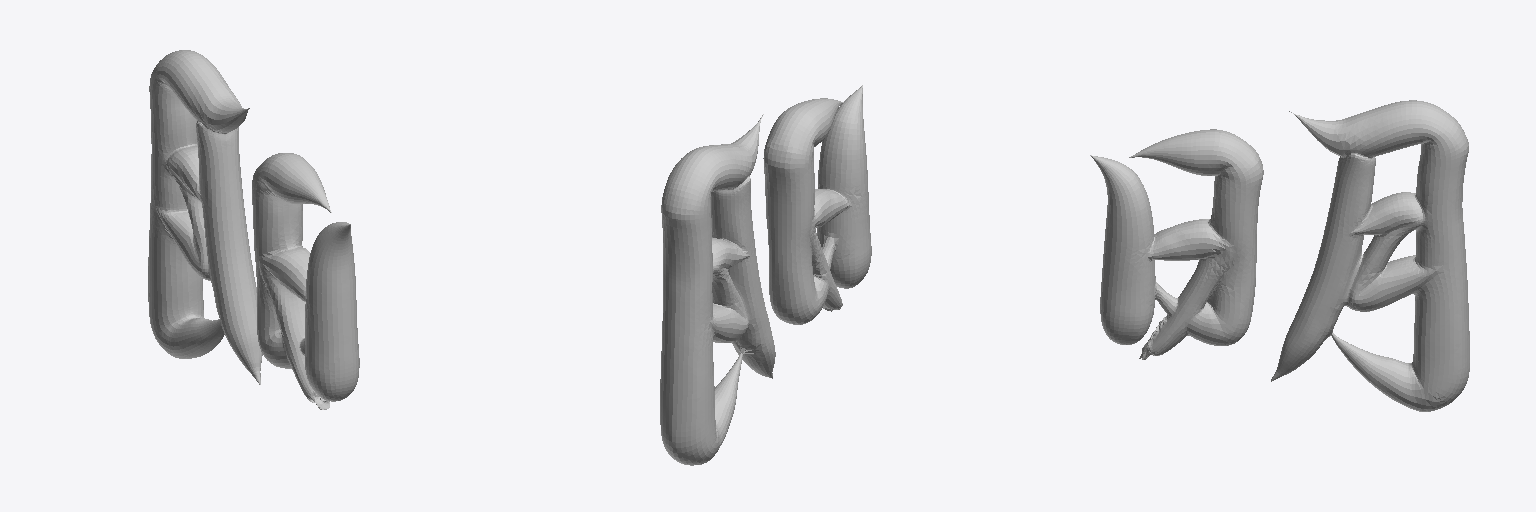
The picture shows the model from 3 angles: view 1: azimuth 30°, elevation 25°; view 2: azimuth 150°, elevation 25°; view 3: azimuth 270°, elevation 25°; orthographic projection.
Parts seen in each view (by area): view 1: tripo_node_4cda9958-f1c0-4668-b696-ed[number redacted]ea; view 2: tripo_node_4cda9958-f1c0-4668-b696-ed[number redacted]ea; view 3: tripo_node_4cda9958-f1c0-4668-b696-ed[number redacted]ea.
Boxes of the visible parts, x1,y1,x2,y2 form: tripo_node_4cda9958-f1c0-4668-b696-ed[number redacted]ea: [148, 50, 359, 409]; tripo_node_4cda9958-f1c0-4668-b696-ed[number redacted]ea: [660, 85, 871, 465]; tripo_node_4cda9958-f1c0-4668-b696-ed[number redacted]ea: [1090, 100, 1469, 411].
Bounding box in the file's own units: 0.1405 × 0.8903 × 0.9983.